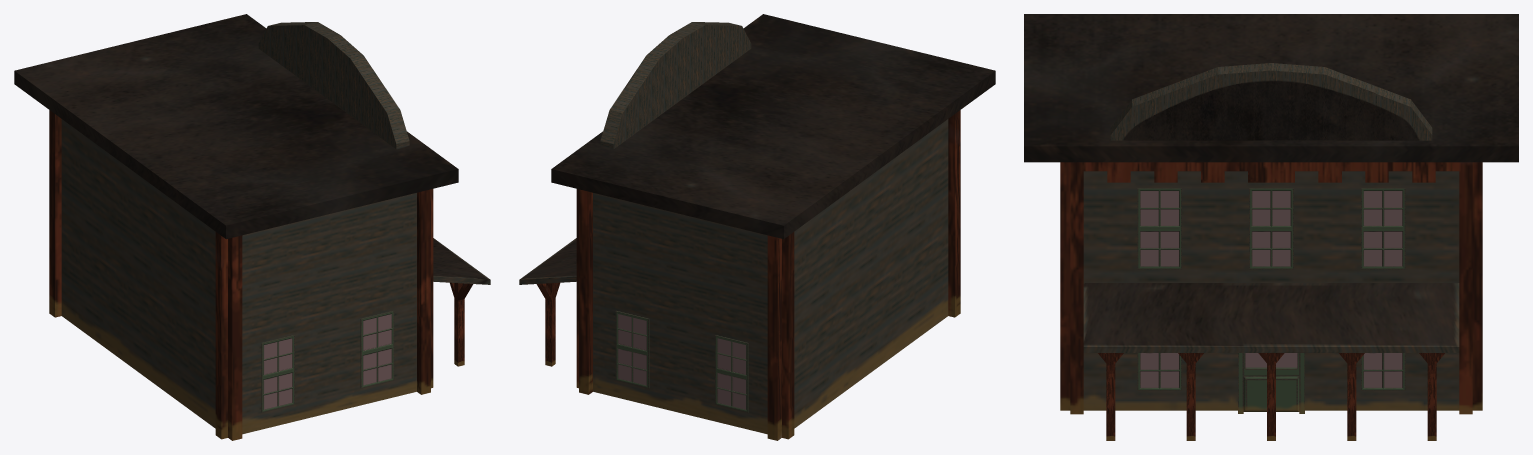
Rendered from r_saloon_green.fbx.
3 renders of one model, left to right at view 1: azimuth 30°, elevation 25°; view 2: azimuth 150°, elevation 25°; view 3: azimuth 270°, elevation 25°, orthographic. The views are drawn at different scales.
Parts seen in each view (by area): view 1: Saloon; view 2: Saloon; view 3: Saloon.
Boxes of the visible parts, bbox=[...] form: Saloon: bbox=[14, 14, 490, 440]; Saloon: bbox=[519, 14, 995, 440]; Saloon: bbox=[1024, 14, 1518, 440].
Size of the model in its own units: 876 by 840 by 1108.
Materials: 1 (1 with a texture image).
